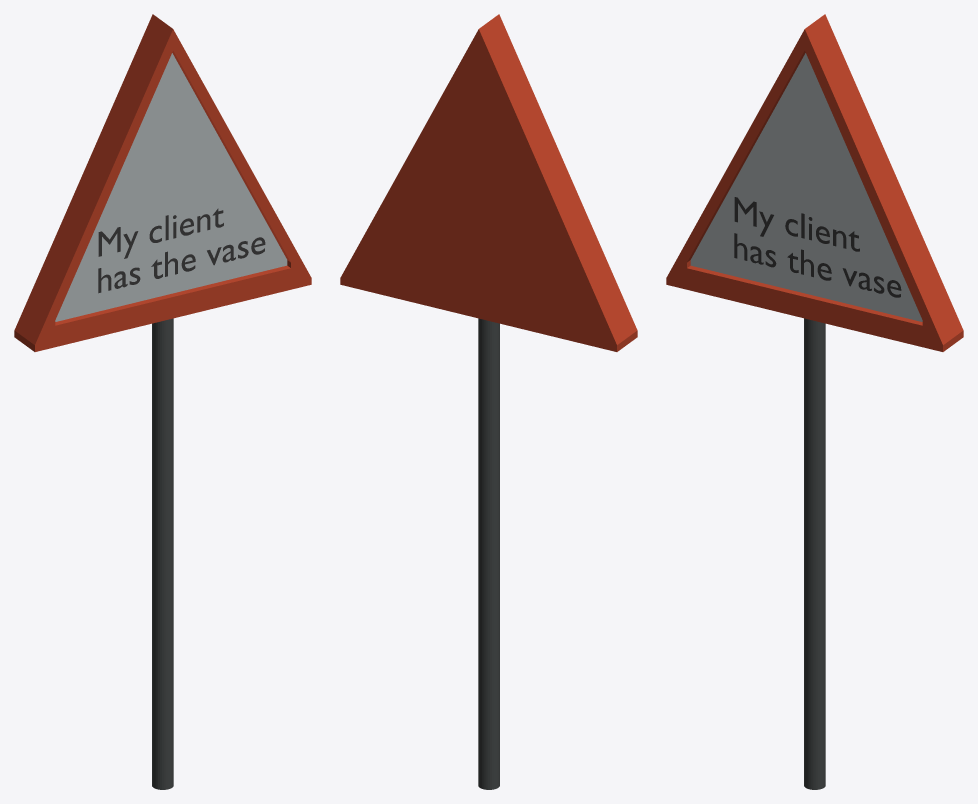
Rendered from mp_sign1.gltf.
3 renders of one model, left to right at view 1: azimuth 30°, elevation 25°; view 2: azimuth 150°, elevation 25°; view 3: azimuth 330°, elevation 25°, orthographic.
Visible parts, largest first — view 1: Cube, Cylinder.001, Text; view 2: Cube, Cylinder.001; view 3: Cube, Cylinder.001, Text.
Part boxes in pixels (bbox=[...]): Cube: bbox=[14, 14, 311, 351]; Cylinder.001: bbox=[152, 318, 173, 789]; Text: bbox=[98, 208, 265, 293]; Cube: bbox=[340, 14, 637, 351]; Cylinder.001: bbox=[478, 318, 499, 789]; Cube: bbox=[666, 14, 963, 351]; Cylinder.001: bbox=[804, 318, 825, 789]; Text: bbox=[734, 197, 901, 297].
Size of the model in its own units: 2 by 5.28 by 0.2561.
